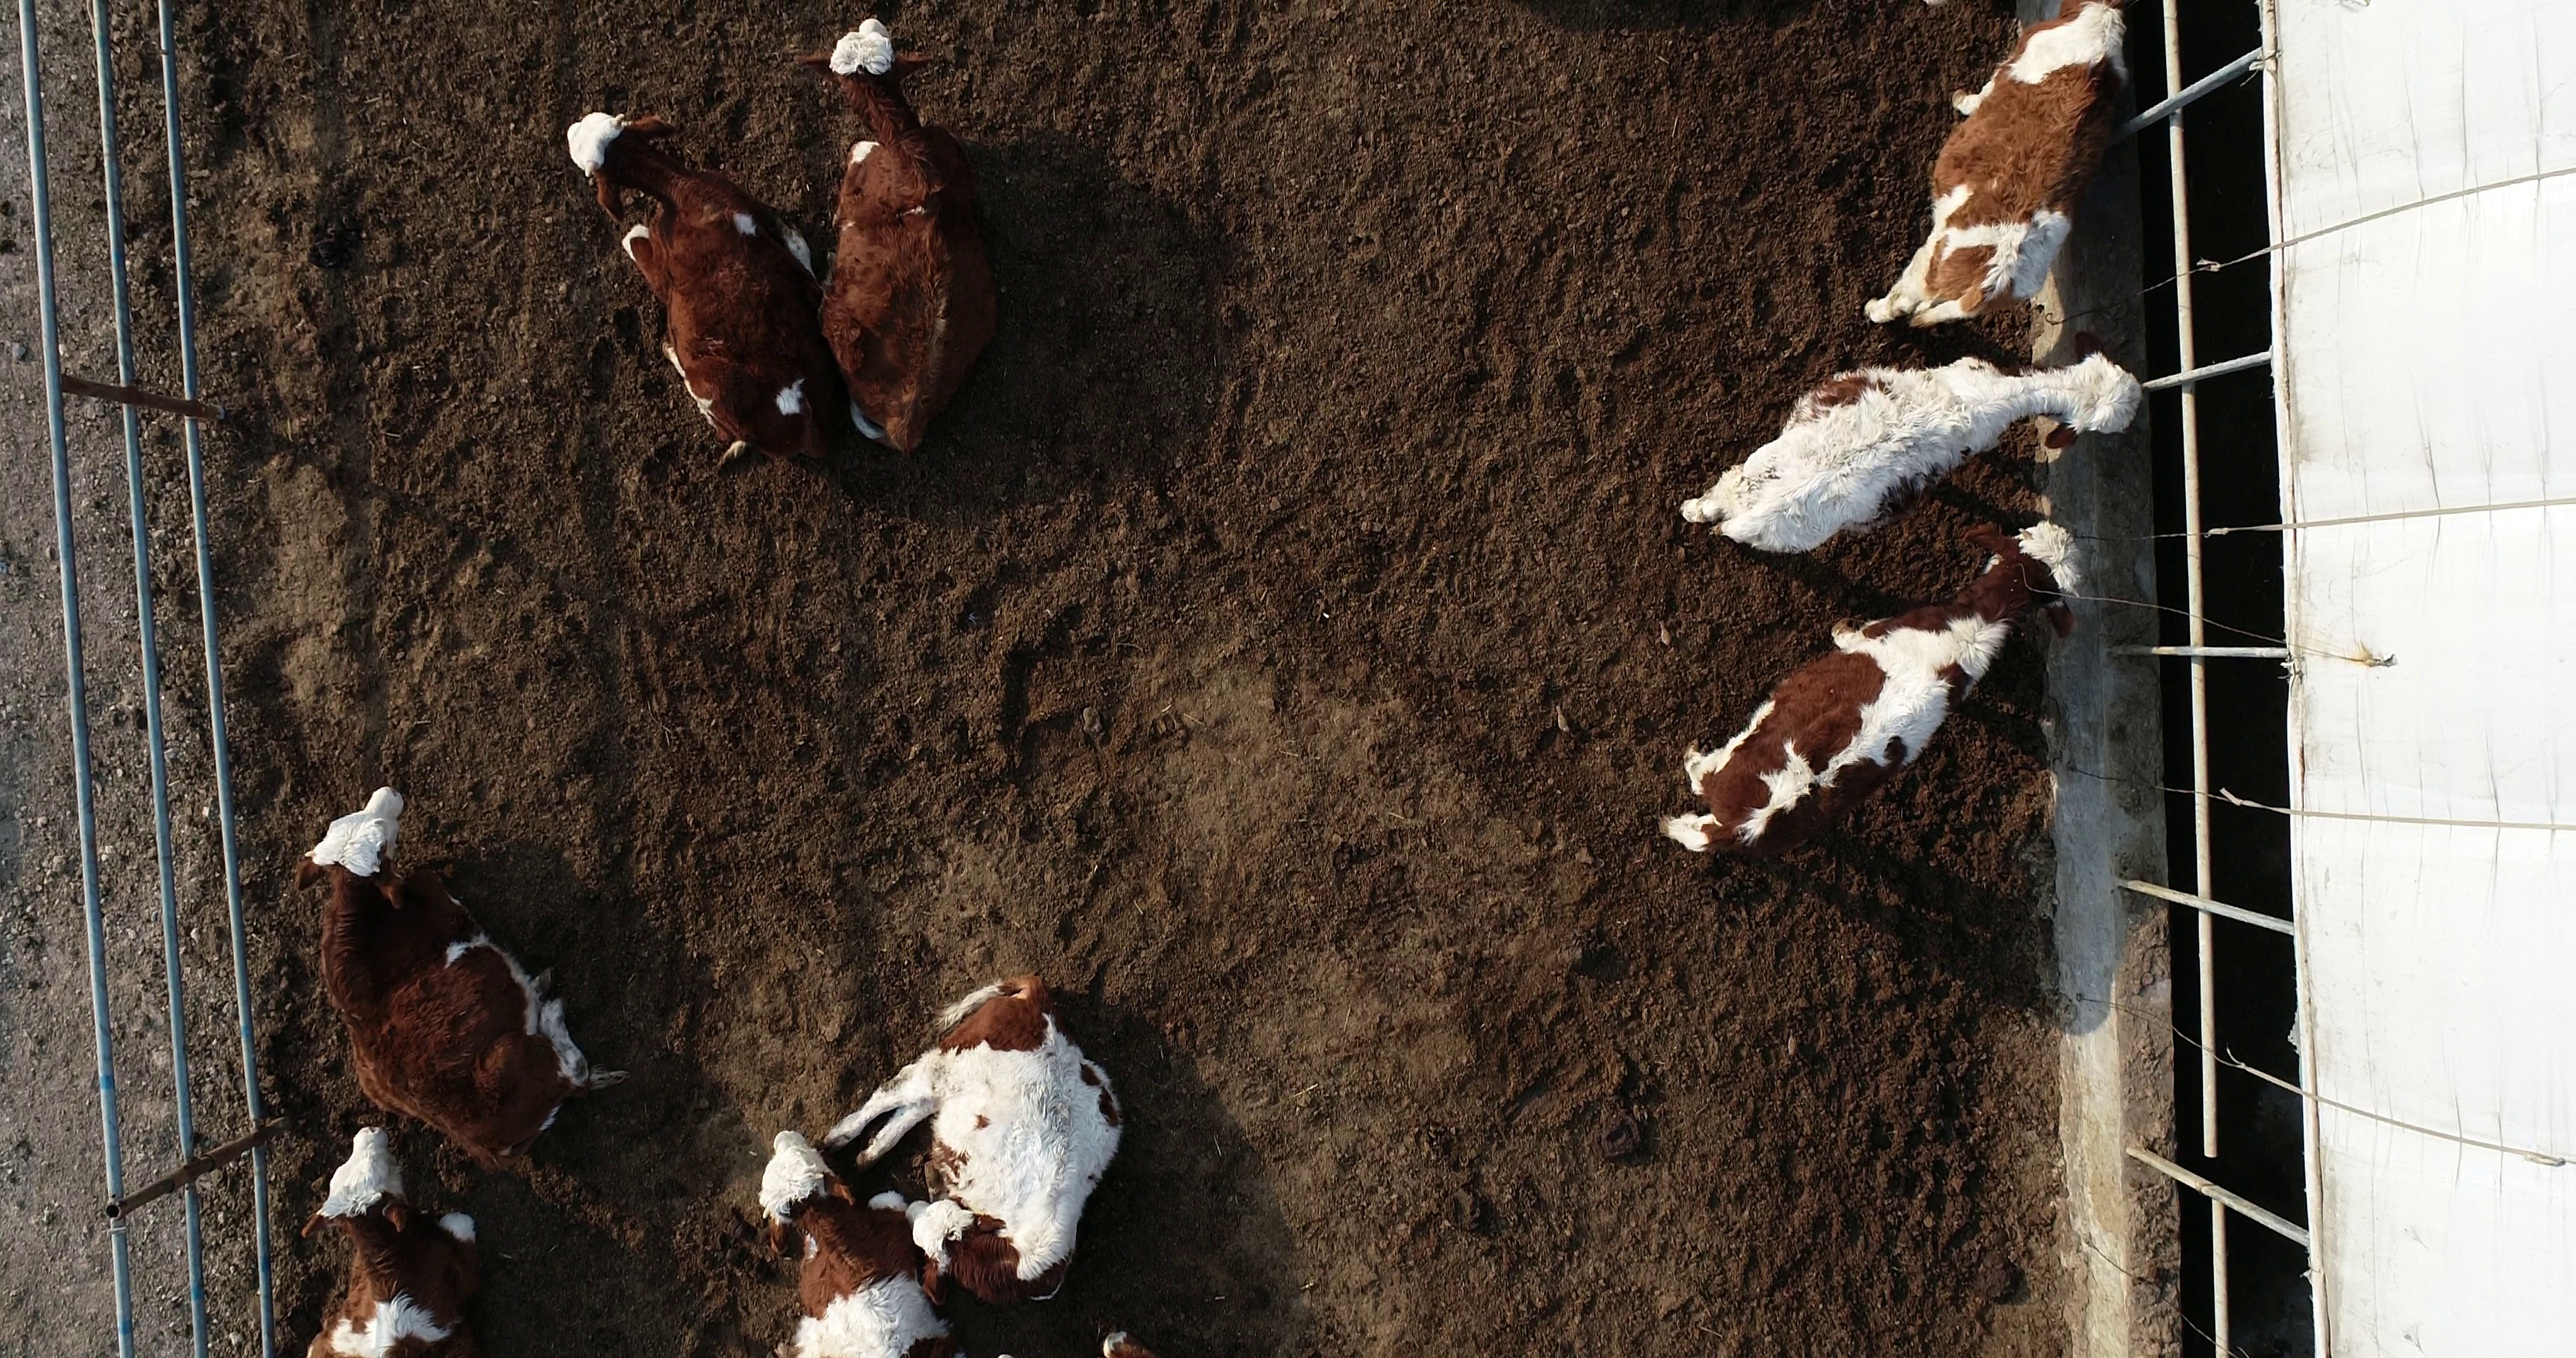cattle: (1651, 518, 2089, 866), (291, 782, 637, 1177), (1675, 327, 2147, 562), (818, 971, 1128, 1315), (562, 106, 837, 479), (787, 12, 1005, 463), (1855, 2, 2143, 336)
